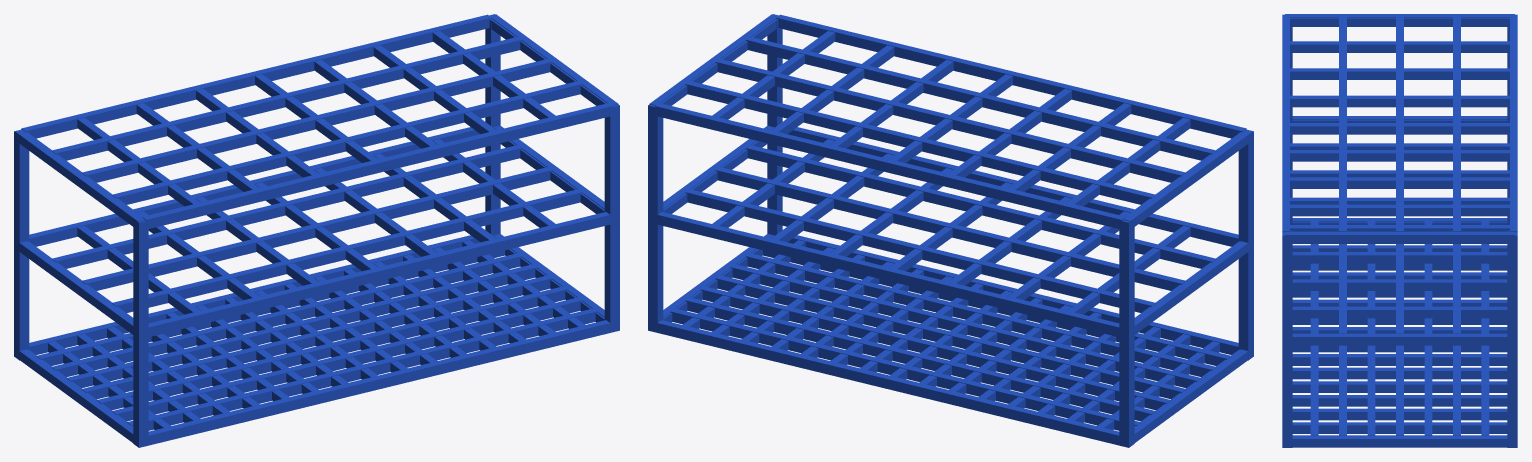
Rendered from gradeta_plastic_blava_32.glb.
3 views of the same model, side by side, from view 1: azimuth 30°, elevation 25°; view 2: azimuth 150°, elevation 25°; view 3: azimuth 270°, elevation 25° (orthographic). The views are drawn at different scales.
Visible parts, largest first — view 1: TOOL_gradeta_plastic_blava; view 2: TOOL_gradeta_plastic_blava; view 3: TOOL_gradeta_plastic_blava.
Boxes of the visible parts, x1,y1,x2,y2 form: TOOL_gradeta_plastic_blava: (14, 14, 619, 447); TOOL_gradeta_plastic_blava: (648, 14, 1253, 447); TOOL_gradeta_plastic_blava: (1282, 14, 1517, 447).
Bounding box in the file's own units: 0.2 × 0.09 × 0.09.
